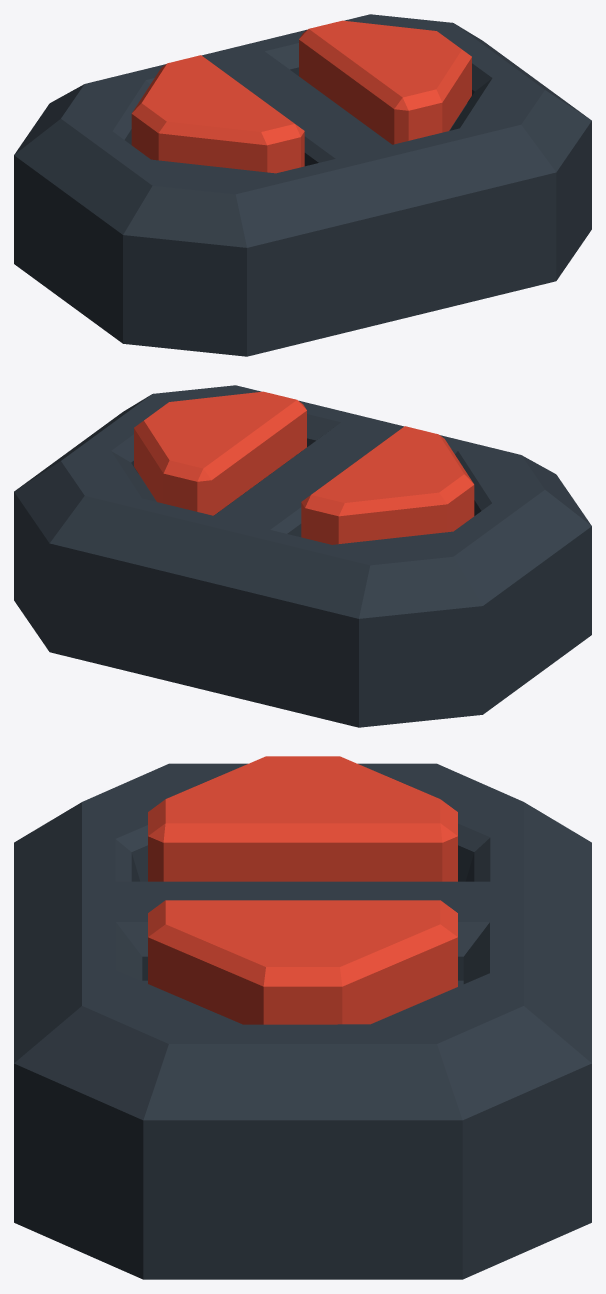
File: updown_button.fbx
3 renders of one model, top to bottom at view 1: azimuth 30°, elevation 25°; view 2: azimuth 150°, elevation 25°; view 3: azimuth 270°, elevation 25°, orthographic. The views are drawn at different scales.
Visible parts, largest first — view 1: Cube, Cube.002, Cube.001; view 2: Cube, Cube.002, Cube.001; view 3: Cube, Cube.002, Cube.001.
Part boxes in pixels (x1=…): Cube: x1=14, y1=14, x2=591, y2=356; Cube.002: x1=299, y1=20, x2=471, y2=144; Cube.001: x1=131, y1=55, x2=304, y2=173; Cube: x1=14, y1=385, x2=591, y2=727; Cube.002: x1=134, y1=391, x2=306, y2=515; Cube.001: x1=301, y1=426, x2=474, y2=544; Cube: x1=14, y1=763, x2=591, y2=1279; Cube.002: x1=148, y1=900, x2=457, y2=1024; Cube.001: x1=148, y1=756, x2=457, y2=881.
Size of the model in its own units: 161 by 56.12 by 118.
